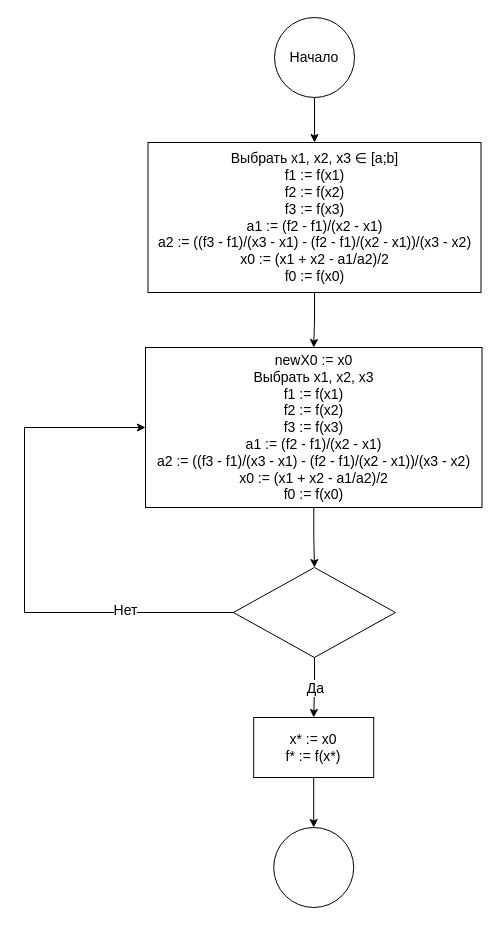
The diagram is 500 pixels wide and 925 high, and some of its shapes have lost their labels. The centre of each missing label's shape, as x and y in pixels:
| newX0 - x0 | <= ε: point (314, 612)
Конец: point (313, 867)
